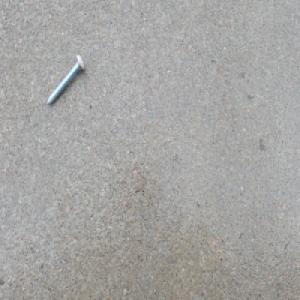Nail: (45, 52, 85, 108)
